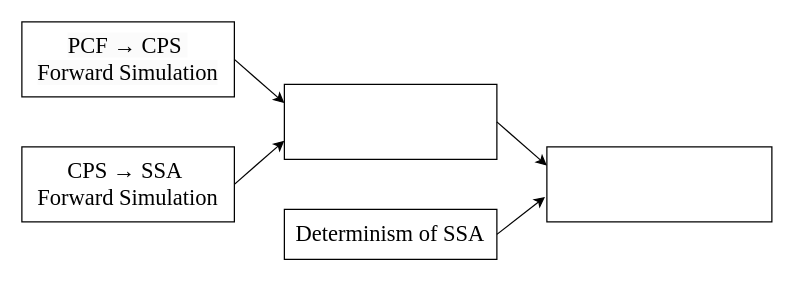
The diagram is 794 pixels wide and 281 high, and some of its shapes have lost their labels. Each missing label, with the centre of its shape:
PCF → SSA Backward Simulation: the point at 659,184
PCF → SSA F orward Simulation: the point at 390,121
